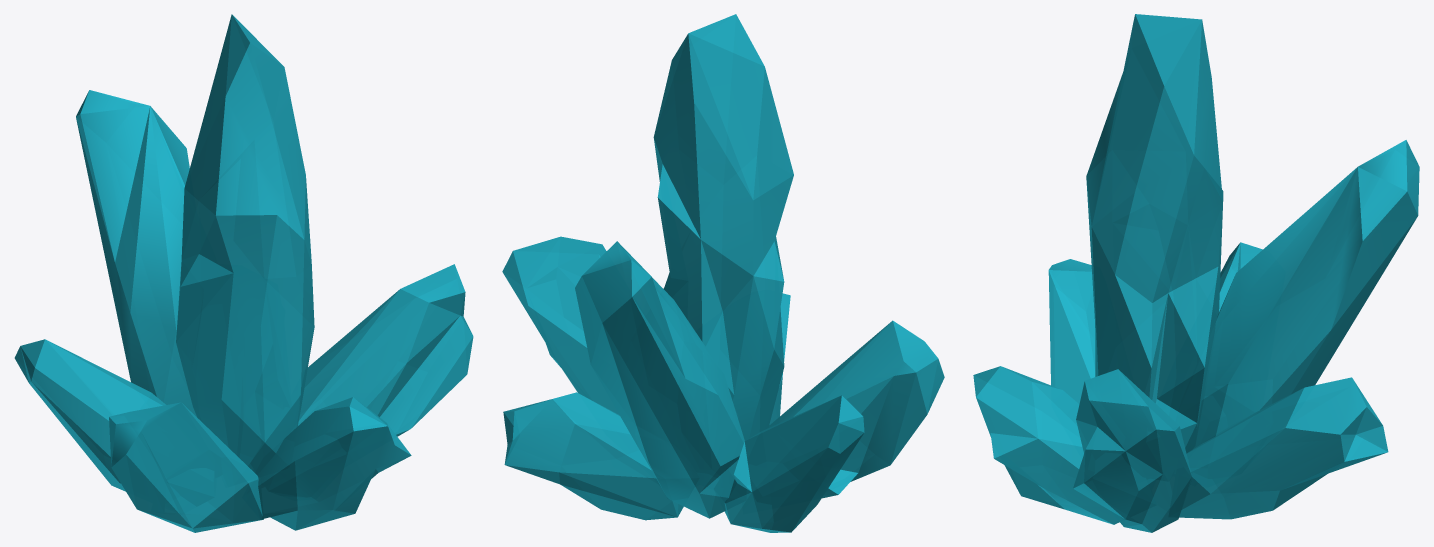
The model's file is Crystal1.FBX.
3 views of the same model, side by side, from view 1: azimuth 30°, elevation 25°; view 2: azimuth 150°, elevation 25°; view 3: azimuth 270°, elevation 25° (orthographic). The views are drawn at different scales.
Parts seen in each view (by area): view 1: Crystal1; view 2: Crystal1; view 3: Crystal1.
Part boxes in pixels (x1,y1,x2,y2): Crystal1: (14,14,473,532); Crystal1: (502,14,944,532); Crystal1: (973,14,1419,532).
Bounding box in the file's own units: 153 × 181 × 147.
